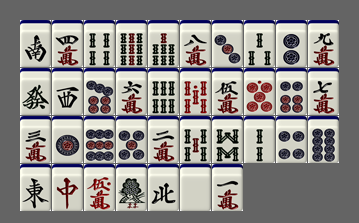0m: (84, 164, 115, 211)
0p: (244, 68, 275, 115)
0s: (180, 68, 211, 115)
1m: (212, 164, 243, 211)
1p: (52, 116, 83, 163)
1s: (116, 164, 147, 211)
1z: (20, 164, 51, 211)
2m: (148, 116, 179, 163)
2p: (276, 20, 307, 67)
2s: (244, 116, 275, 163)
2z: (20, 20, 51, 67)
3m: (20, 116, 51, 163)
3p: (212, 20, 243, 67)
3s: (244, 20, 275, 67)
3z: (52, 68, 83, 115)
4m: (52, 20, 83, 67)
4p: (276, 116, 307, 163)
4s: (84, 20, 115, 67)
4z: (148, 164, 179, 211)
5m: (212, 68, 243, 115)
5p: (116, 116, 147, 163)
5s: (180, 116, 211, 163)
5z: (180, 164, 211, 211)
6m: (116, 68, 147, 115)
6p: (276, 68, 307, 115)
6s: (148, 68, 179, 115)
6z: (20, 68, 51, 115)
7m: (308, 68, 339, 115)
7p: (84, 68, 115, 115)
7s: (148, 20, 179, 67)
7z: (52, 164, 83, 211)
8m: (180, 20, 211, 67)
8p: (308, 116, 339, 163)
8s: (212, 116, 243, 163)
9m: (308, 20, 339, 67)
9p: (84, 116, 115, 163)
9s: (116, 20, 147, 67)
